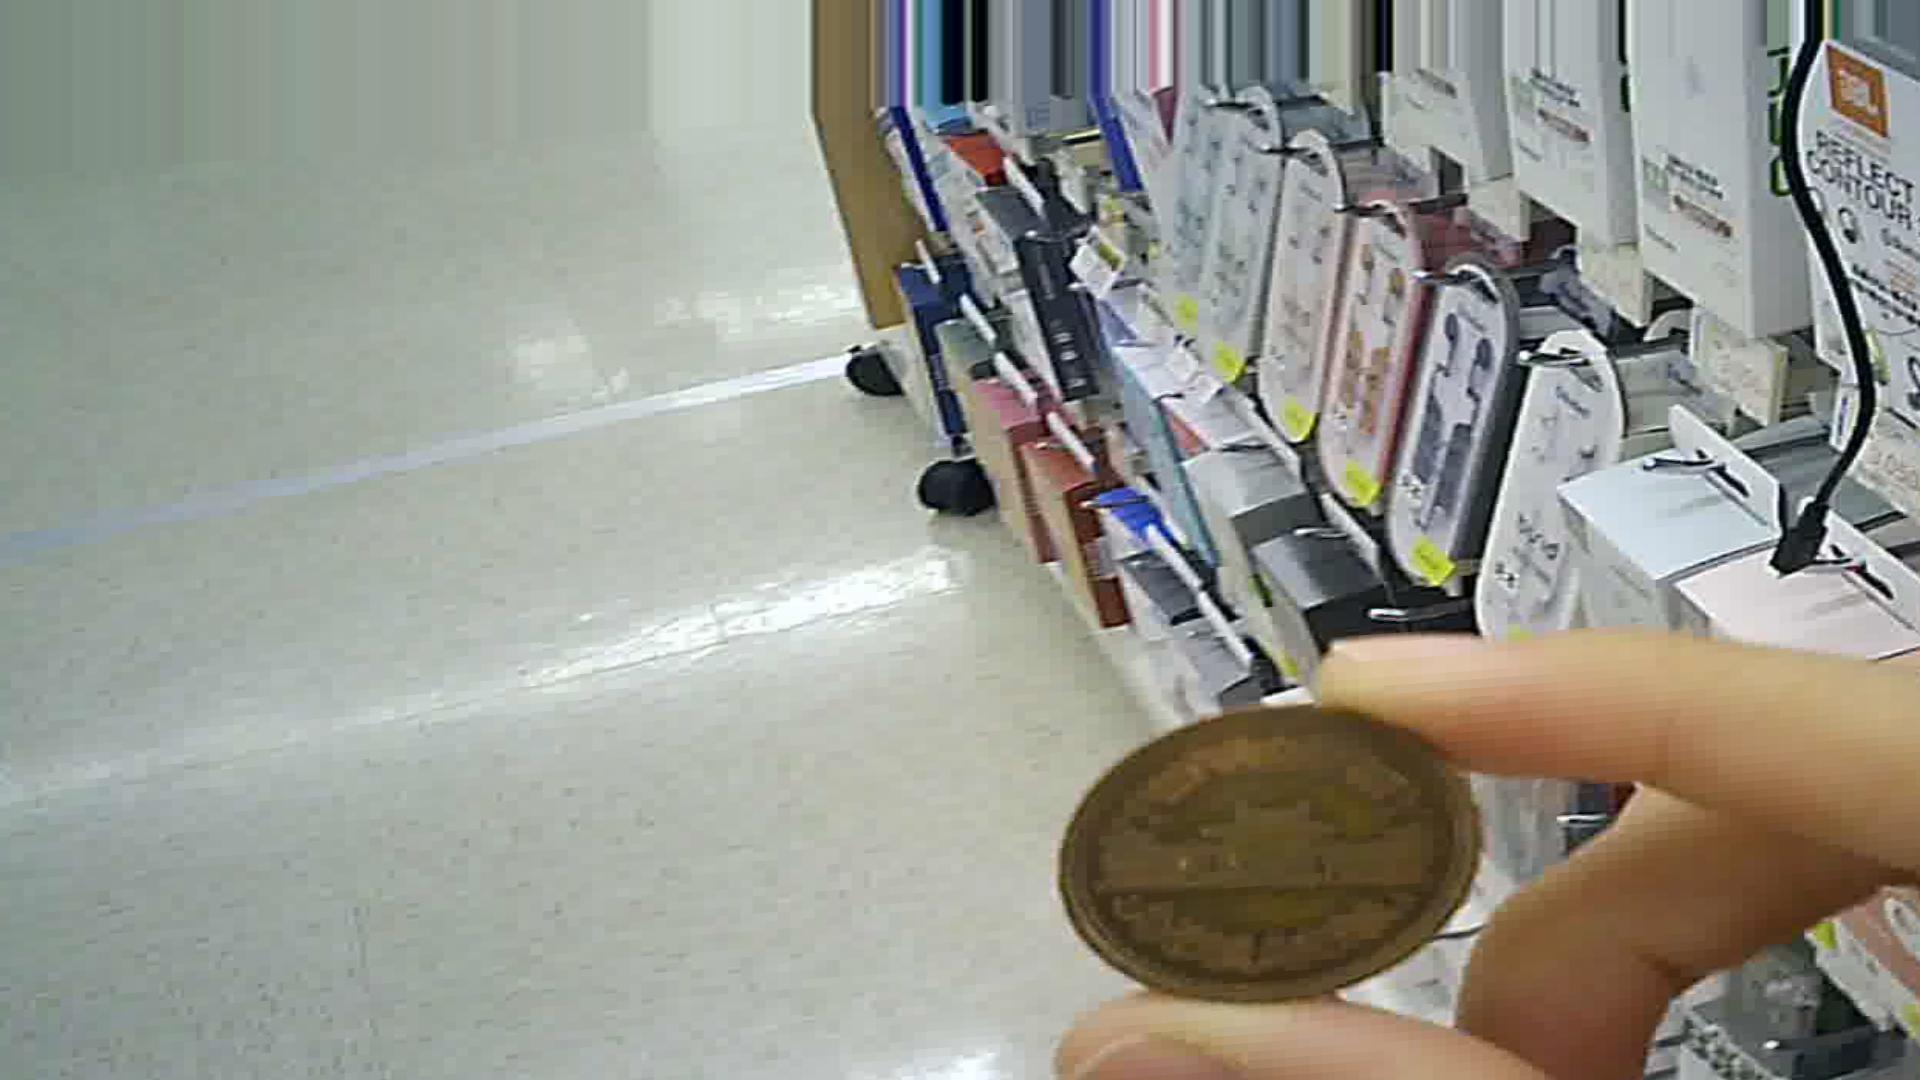10 Yen: (1036, 705, 1480, 1022)
